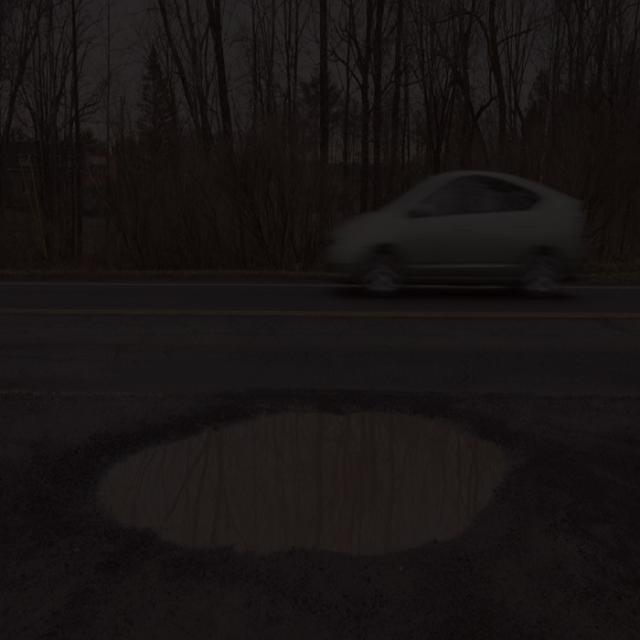Pothole: (75, 388, 526, 565)
